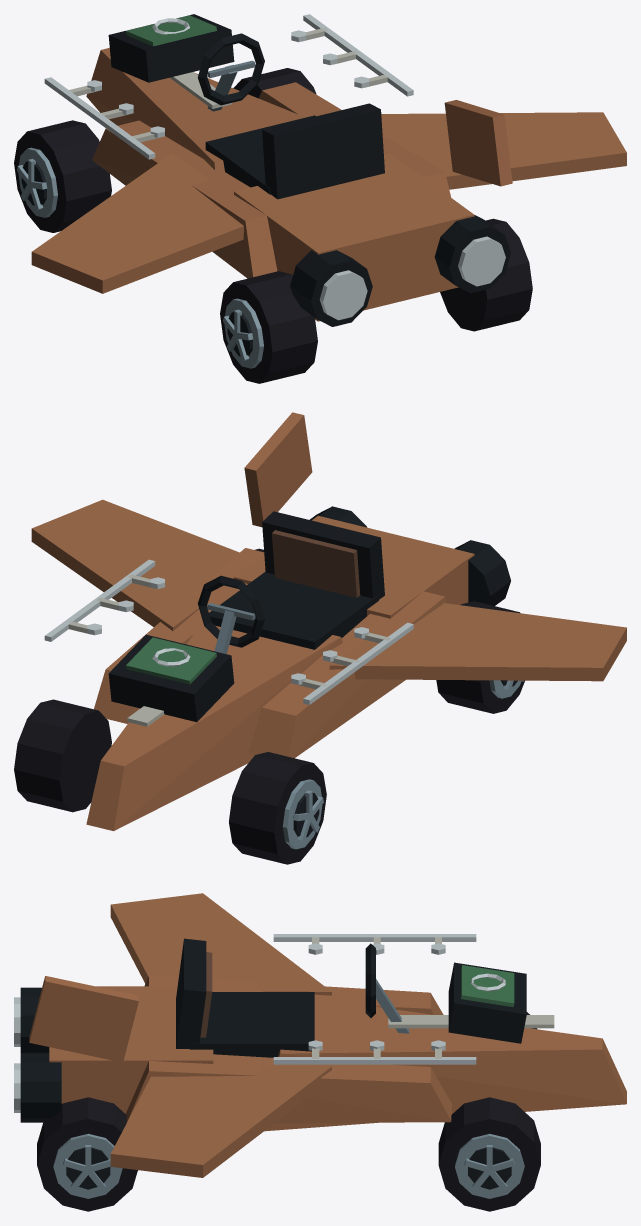
The model's file is kart.glb.
3 views of the same model, one above another, from view 1: azimuth 30°, elevation 25°; view 2: azimuth 150°, elevation 25°; view 3: azimuth 270°, elevation 25° (orthographic). The views are drawn at different scales.
Parts seen in each view (by area): view 1: identity-starfighter-starfighter-flight-planform, identity-starfighter-driver-cockpit, wheel-rear-left, wheel-front-left, identity-starfighter-motif-scanner, wheel-rear-right, identity-starfighter-motif-circuit, wheel-front-right; view 2: identity-starfighter-starfighter-flight-planform, identity-starfighter-driver-cockpit, wheel-front-left, wheel-front-right, identity-starfighter-motif-scanner, identity-starfighter-motif-circuit, wheel-rear-left; view 3: identity-starfighter-starfighter-flight-planform, identity-starfighter-driver-cockpit, wheel-front-right, wheel-rear-right, identity-starfighter-motif-scanner, identity-starfighter-motif-circuit.
Boxes of the visible parts, x1,y1,x2,y2 form: identity-starfighter-starfighter-flight-planform: (31, 48, 626, 326); identity-starfighter-driver-cockpit: (197, 33, 384, 199); wheel-rear-left: (220, 271, 317, 383); wheel-front-left: (14, 120, 111, 232); identity-starfighter-motif-scanner: (108, 14, 234, 82); wheel-rear-right: (440, 218, 532, 331); identity-starfighter-motif-circuit: (44, 14, 413, 159); wheel-front-right: (233, 68, 316, 98); identity-starfighter-starfighter-flight-planform: (31, 412, 626, 831); identity-starfighter-driver-cockpit: (197, 511, 384, 654); wheel-front-left: (229, 752, 326, 864); wheel-front-right: (14, 699, 111, 812); identity-starfighter-motif-scanner: (108, 634, 234, 722); identity-starfighter-motif-circuit: (44, 559, 413, 704); wheel-rear-left: (436, 601, 524, 713); identity-starfighter-starfighter-flight-planform: (14, 893, 626, 1177); identity-starfighter-driver-cockpit: (176, 938, 409, 1057); wheel-front-right: (438, 1097, 540, 1211); wheel-rear-right: (37, 1097, 137, 1211); identity-starfighter-motif-scanner: (448, 962, 526, 1043); identity-starfighter-motif-circuit: (273, 934, 476, 1064).
Size of the model in its own units: 3.14 by 1.18 by 2.99.
